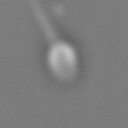normal: (23, 1, 52, 44)
